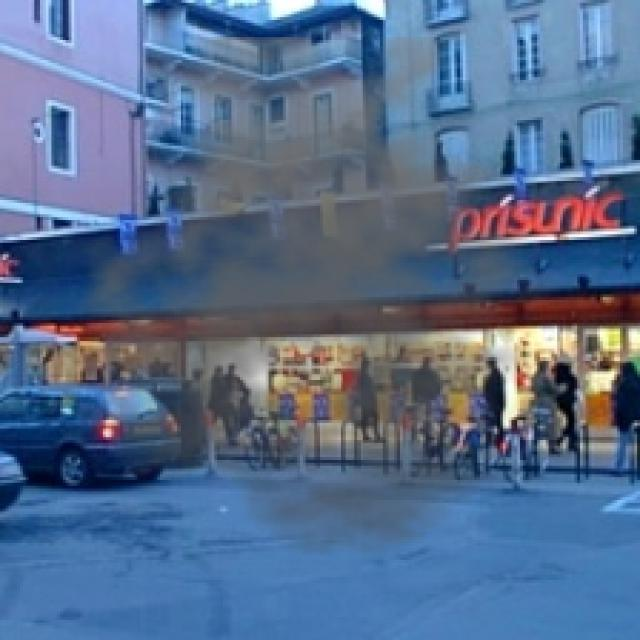Smoke: (57, 37, 589, 557)
